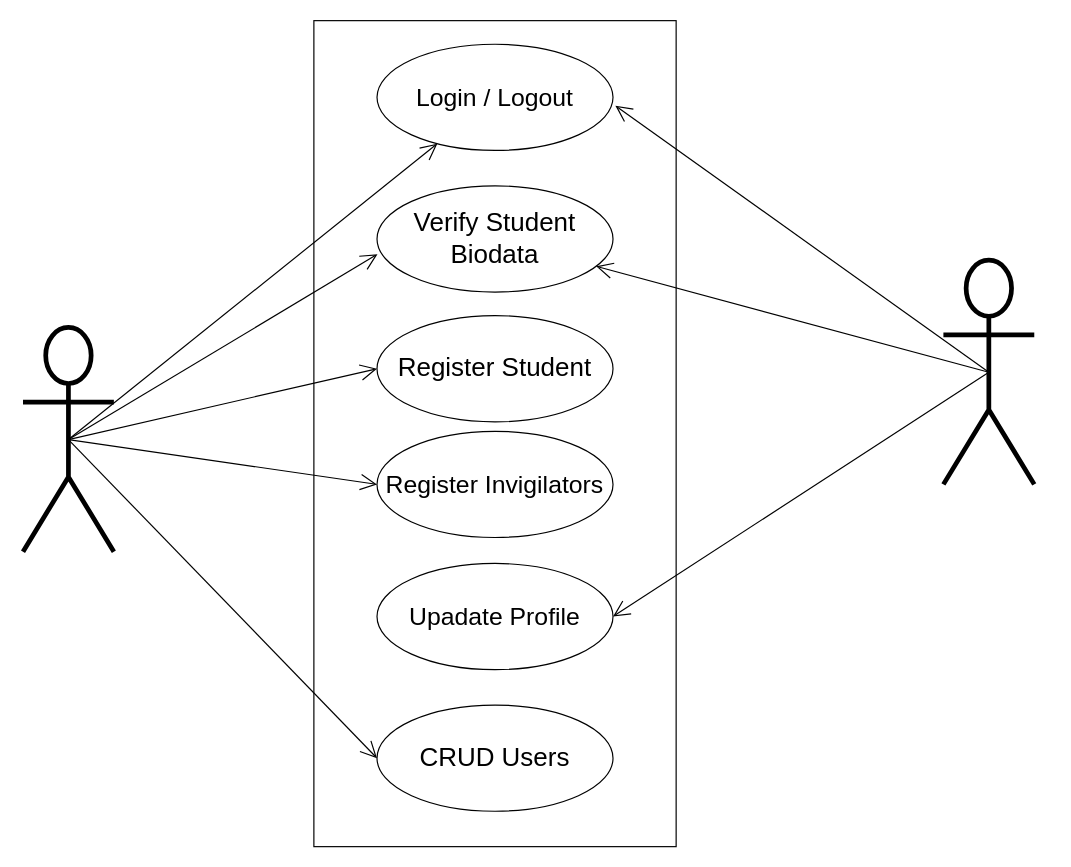
Image size: 1071x867. Some labels were removed from this diagram. Each missing label, with the centre of its shape:
"Admin" goes at (x=68, y=438).
"Invigilators" goes at (x=988, y=371).
